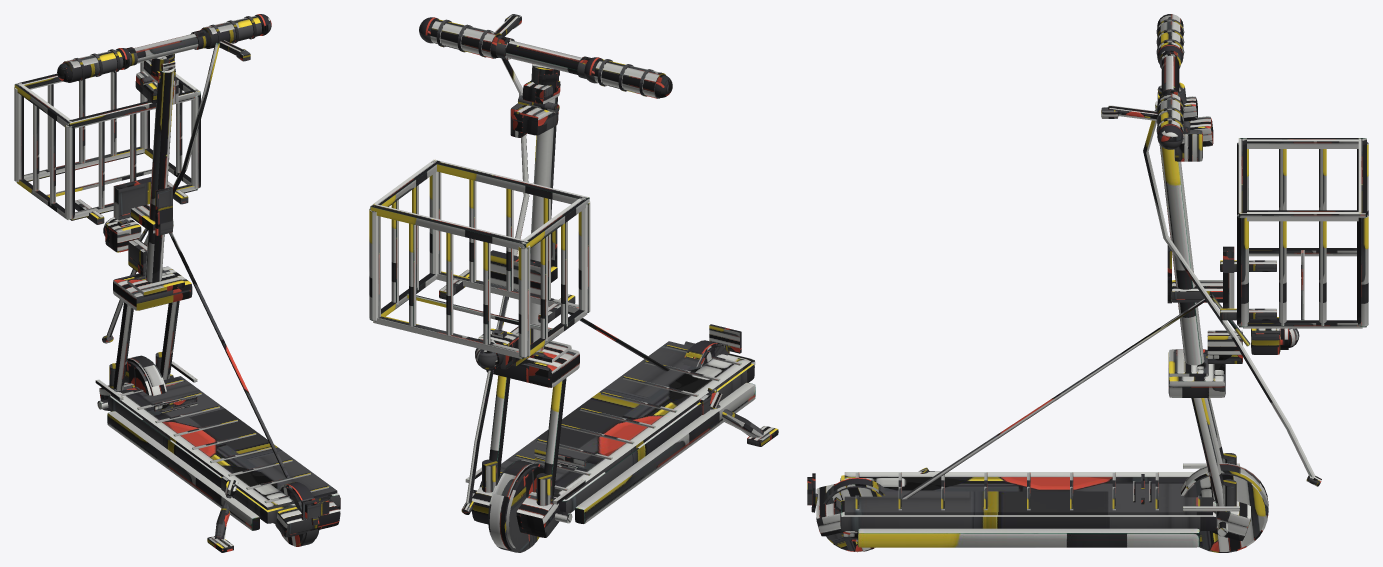
Rendered from PR_scooter.glb.
3 views of the same model, side by side, from view 1: azimuth 30°, elevation 25°; view 2: azimuth 150°, elevation 25°; view 3: azimuth 270°, elevation 25° (orthographic). The views are drawn at different scales.
Parts seen in each view (by area): view 1: PR_scooter; view 2: PR_scooter; view 3: PR_scooter.
Part boxes in pixels (x1,y1,x2,y2): PR_scooter: (14, 14, 340, 552); PR_scooter: (369, 14, 778, 552); PR_scooter: (807, 14, 1368, 552).
Bounding box in the file's own units: 0.504 × 0.9288 × 0.9834.
Materials: 1 (1 with a texture image).
